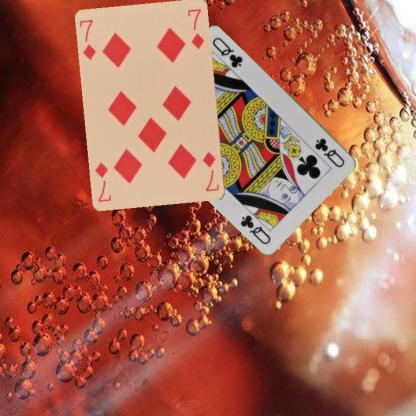7d: (200, 149, 221, 193), (78, 17, 98, 62)
Qc: (312, 135, 346, 169)
